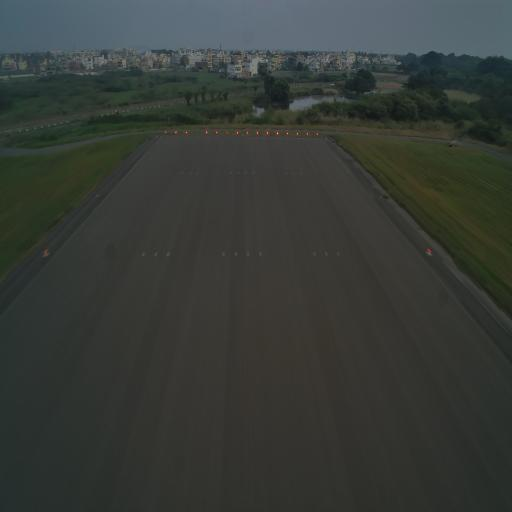off: (244, 246, 252, 261), (311, 248, 318, 261), (323, 246, 330, 258), (335, 247, 342, 259), (152, 248, 158, 260), (257, 248, 264, 258), (232, 248, 238, 259), (140, 249, 146, 259), (166, 250, 172, 260), (222, 249, 226, 259)
on: (426, 242, 433, 258), (42, 246, 49, 258)
